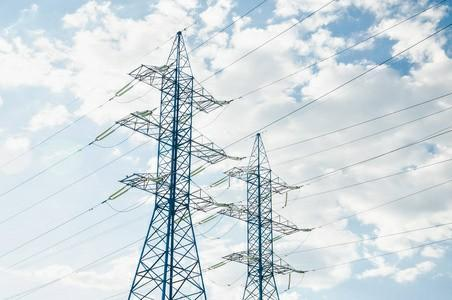power_tower: (114, 28, 227, 300), (235, 130, 312, 300)
